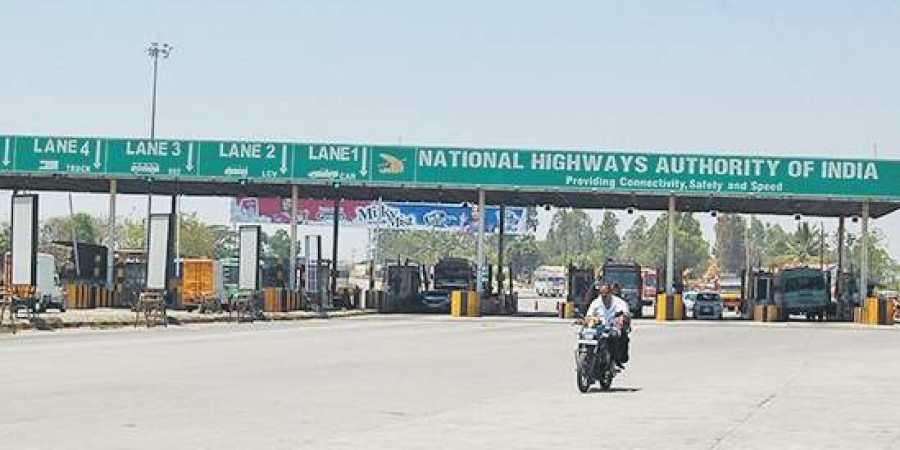toll plaza: (13, 125, 900, 325)
